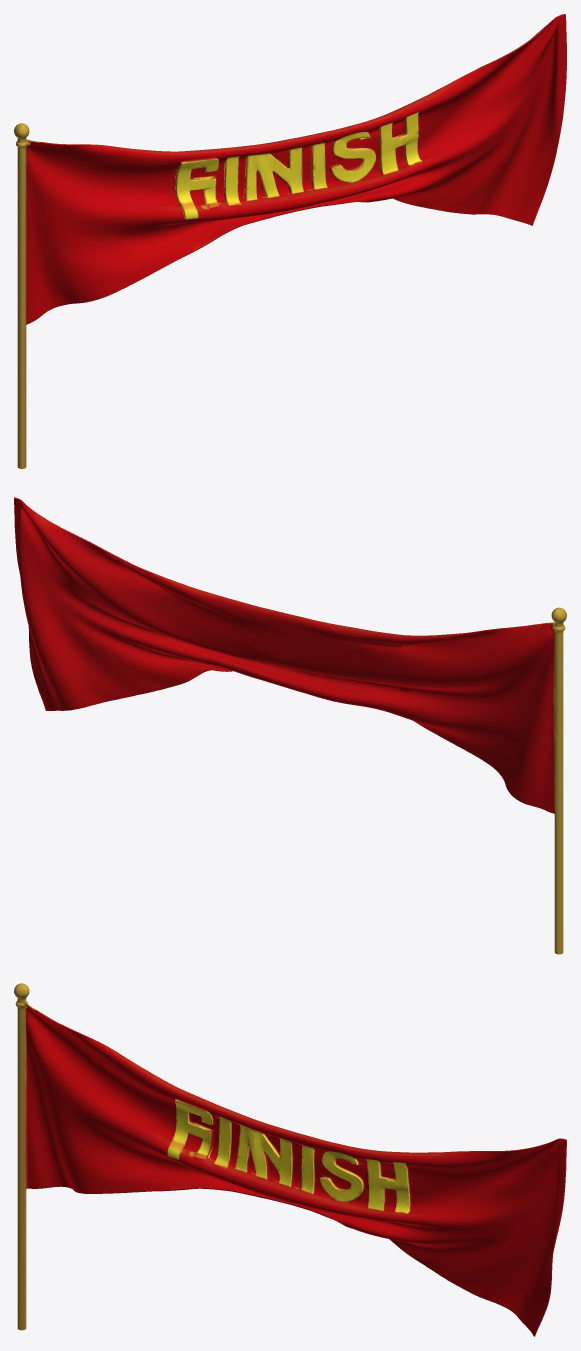
File: Meshy_AI_drone_oyunum_için_ha_0820125513_texture.obj
3 renders of one model, top to bottom at view 1: azimuth 30°, elevation 25°; view 2: azimuth 150°, elevation 25°; view 3: azimuth 330°, elevation 25°, orthographic.
Parts seen in each view (by area): view 1: Meshy_AI_drone_oyunum_için_ha_0820125513_texture; view 2: Meshy_AI_drone_oyunum_için_ha_0820125513_texture; view 3: Meshy_AI_drone_oyunum_için_ha_0820125513_texture.
Boxes of the visible parts, x1=… form: Meshy_AI_drone_oyunum_için_ha_0820125513_texture: x1=14, y1=14, x2=566, y2=468; Meshy_AI_drone_oyunum_için_ha_0820125513_texture: x1=14, y1=497, x2=566, y2=954; Meshy_AI_drone_oyunum_için_ha_0820125513_texture: x1=14, y1=983, x2=566, y2=1336.
Size of the model in its own units: 1.9 by 1.13 by 0.129.
1 material, 1 textured.
